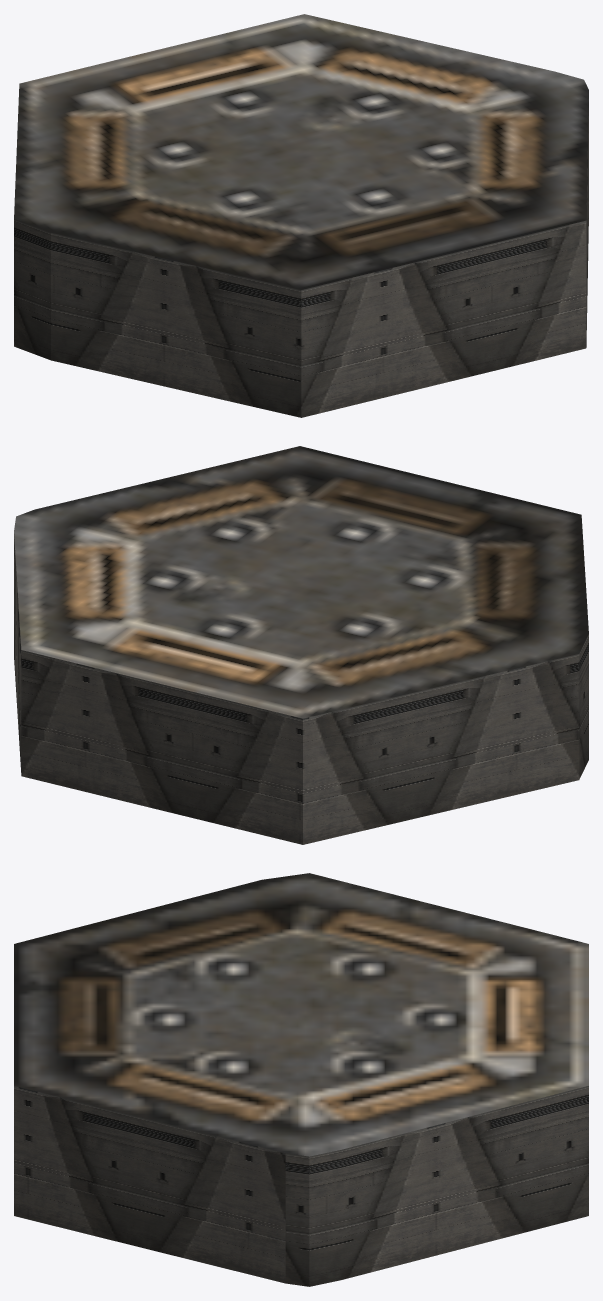
File: fortress_medium_a_00.glb
The picture shows the model from 3 angles, top to bottom: view 1: azimuth 30°, elevation 25°; view 2: azimuth 150°, elevation 25°; view 3: azimuth 270°, elevation 25°; orthographic projection. The views are drawn at different scales.
Visible parts, largest first — view 1: buildings/saxarba/fortress_medium/fortress_medium_a_00; view 2: buildings/saxarba/fortress_medium/fortress_medium_a_00; view 3: buildings/saxarba/fortress_medium/fortress_medium_a_00.
Part boxes in pixels (x1,y1,x2,y2): buildings/saxarba/fortress_medium/fortress_medium_a_00: (14, 14, 588, 417); buildings/saxarba/fortress_medium/fortress_medium_a_00: (14, 446, 588, 844); buildings/saxarba/fortress_medium/fortress_medium_a_00: (14, 873, 588, 1286).
Size of the model in its own units: 84 by 18 by 72.
